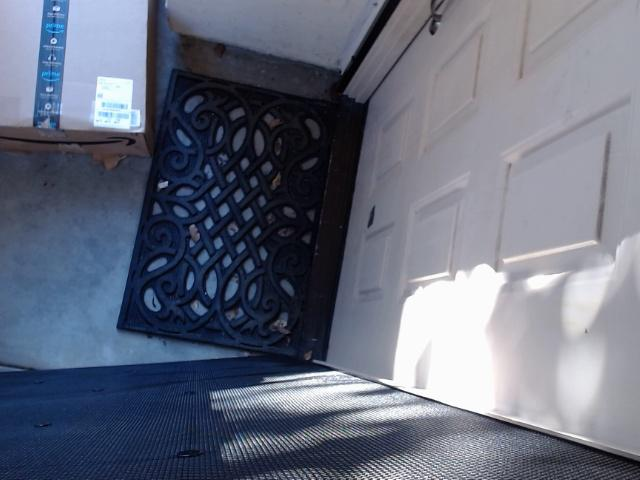box: (0, 0, 217, 153)
